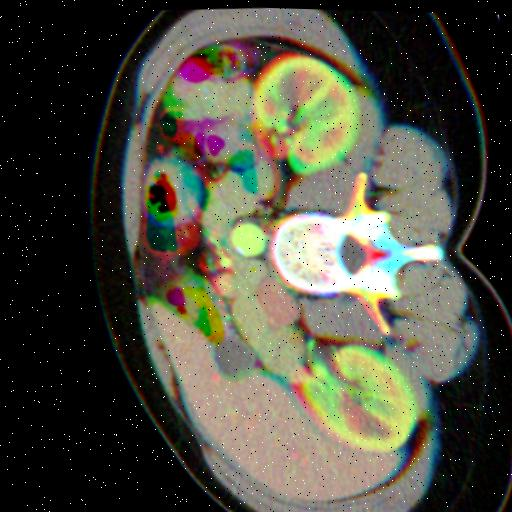Cyst: (205, 335, 247, 375)
